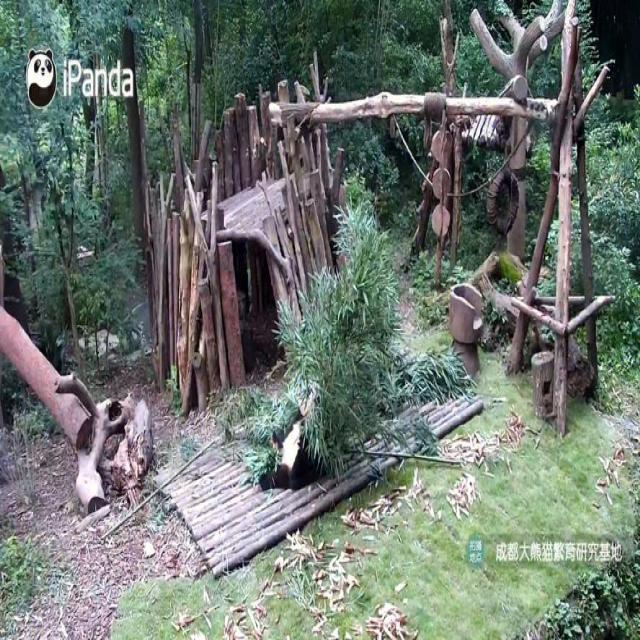panda: (252, 375, 336, 493)
